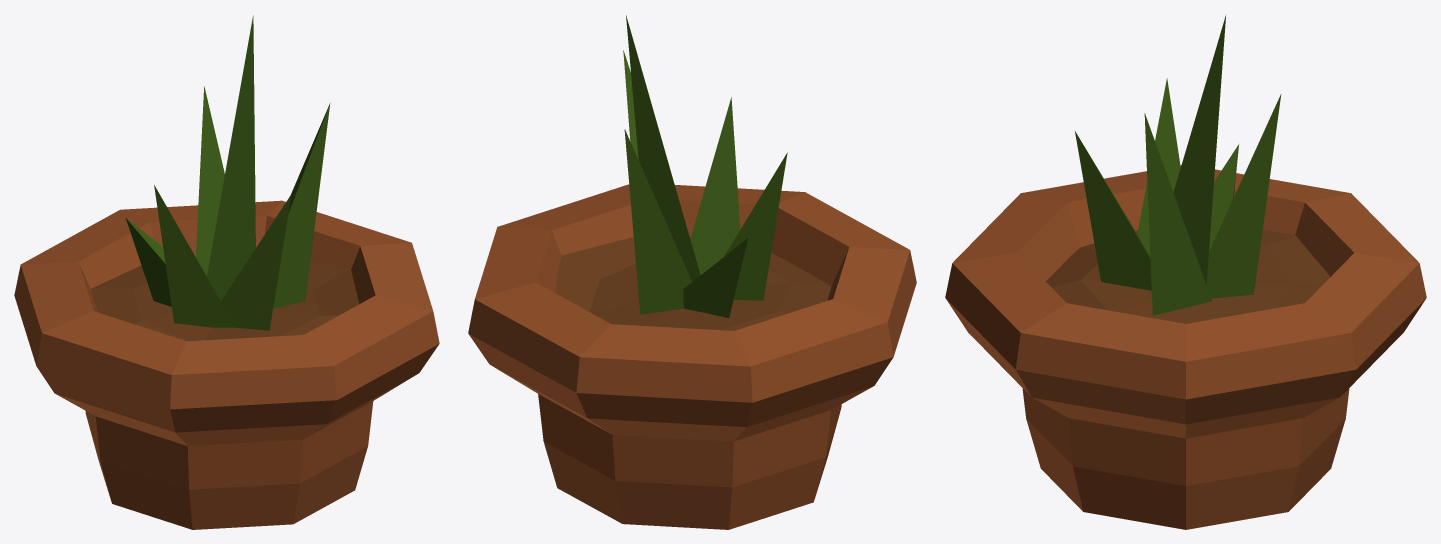
File: PotGrass.fbx
3 views of the same model, side by side, from view 1: azimuth 30°, elevation 25°; view 2: azimuth 150°, elevation 25°; view 3: azimuth 270°, elevation 25° (orthographic). The views are drawn at different scales.
Parts seen in each view (by area): view 1: PlanterFlowerPot, Grass, PlanterFlowerEarth; view 2: PlanterFlowerPot, Grass, PlanterFlowerEarth; view 3: PlanterFlowerPot, Grass, PlanterFlowerEarth.
Part boxes in pixels (<box>): PlanterFlowerPot: <box>14,200,439,529</box>; Grass: <box>125,15,330,330</box>; PlanterFlowerEarth: <box>91,256,358,341</box>; PlanterFlowerPot: <box>468,184,916,529</box>; Grass: <box>623,15,787,317</box>; PlanterFlowerEarth: <box>555,237,831,330</box>; PlanterFlowerPot: <box>945,165,1426,529</box>; Grass: <box>1074,14,1281,315</box>; PlanterFlowerEarth: <box>1046,229,1330,323</box>.
Bounding box in the file's own units: 95.05 × 104 × 95.05.
